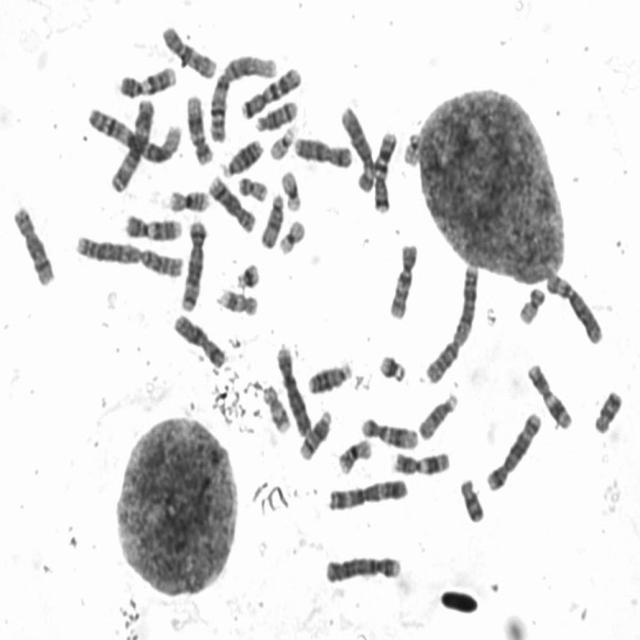A1: (205, 49, 279, 144), (84, 100, 183, 166)
A2: (421, 257, 480, 385), (70, 227, 186, 279)
A3: (105, 94, 156, 194), (324, 472, 409, 512)
B4: (272, 338, 313, 438), (321, 549, 403, 584)
B5: (482, 406, 543, 492), (176, 214, 208, 313)
C10: (157, 19, 218, 80), (384, 236, 420, 322)
C11: (522, 356, 574, 431), (388, 444, 452, 476)
C12: (182, 88, 215, 166), (356, 411, 420, 450)
C6: (542, 267, 604, 346), (336, 99, 376, 194)
C7: (236, 61, 303, 119), (368, 123, 398, 214)
C8: (8, 200, 56, 288), (204, 170, 258, 234)
C9: (115, 60, 178, 99), (121, 207, 184, 242)
D13: (218, 132, 264, 178), (303, 356, 354, 395)
D14: (294, 404, 332, 461), (252, 94, 300, 132)
D15: (414, 386, 460, 442), (256, 187, 285, 250)
E16: (334, 432, 374, 475), (165, 183, 211, 214)
E17: (258, 379, 292, 435), (213, 282, 260, 318)
E18: (590, 383, 624, 436), (456, 470, 486, 524)
F19: (274, 213, 306, 256), (277, 165, 303, 212)
F20: (514, 280, 548, 326), (234, 170, 270, 202)
G21: (374, 347, 409, 384), (232, 256, 262, 290)
G22: (265, 121, 297, 161), (399, 127, 422, 167)
X: (168, 308, 228, 369), (290, 130, 354, 170)
